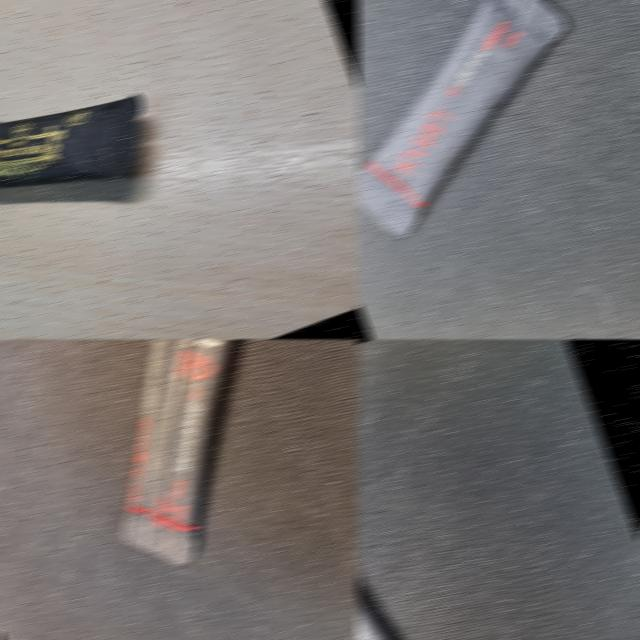KANU: (29, 339, 340, 596), (356, 0, 627, 270), (356, 468, 482, 640)
espresso_mini: (0, 35, 185, 299)
